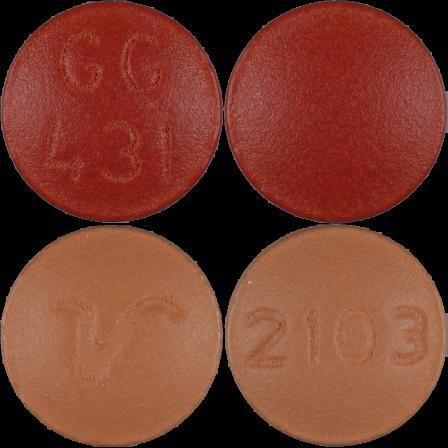67046-012: (0, 0, 224, 224)
